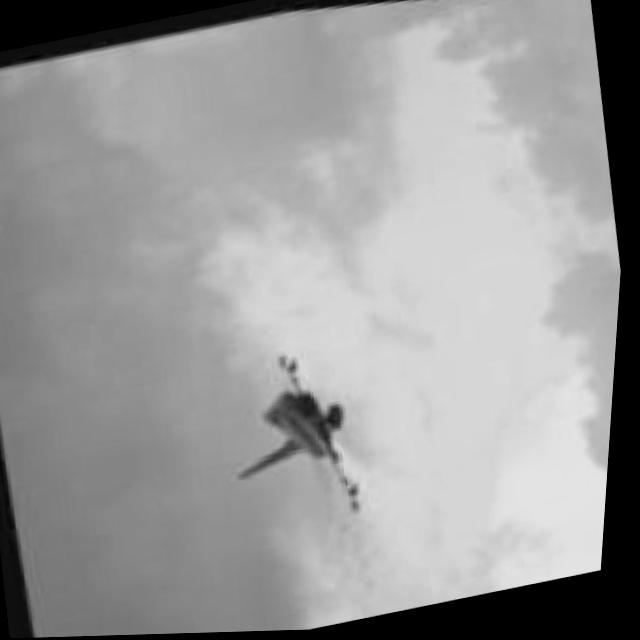aeroplane: (192, 318, 391, 549)
